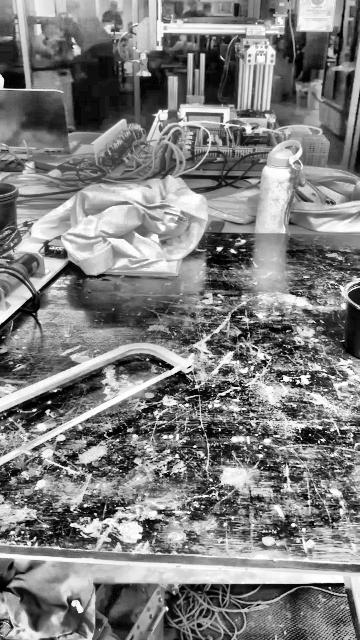pot: (344, 284, 359, 357)
